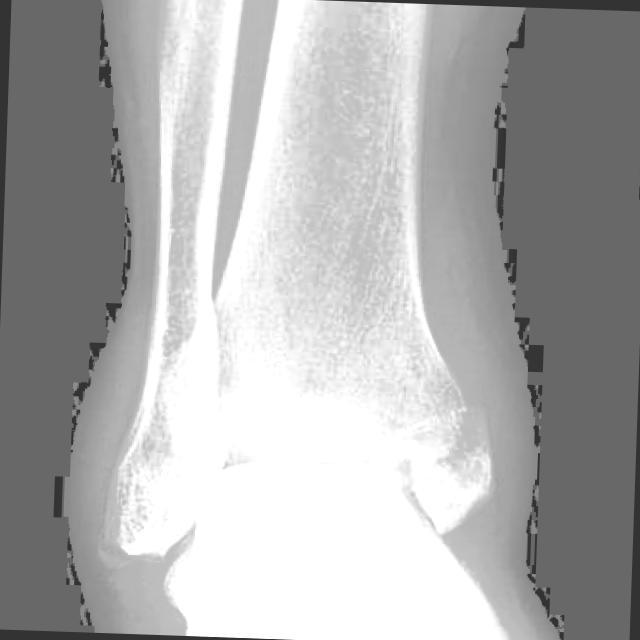HairLine Fracture: (430, 404, 489, 482)
